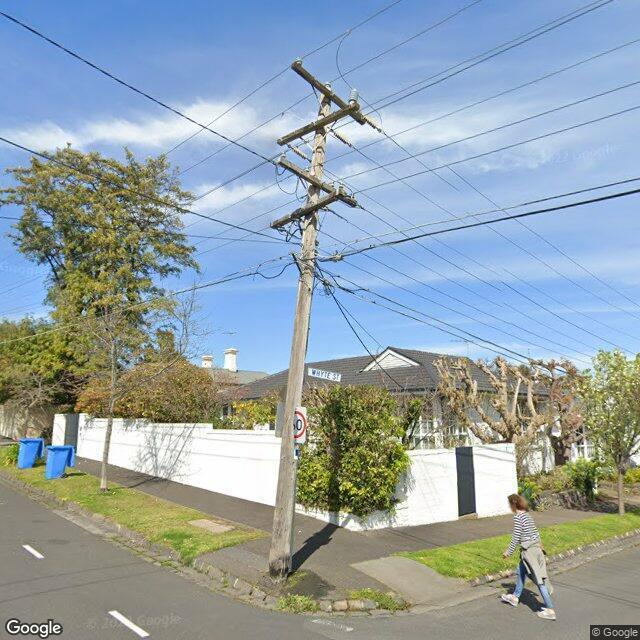HV-transmission: (292, 54, 382, 134)
crossarm: (276, 153, 365, 210), (292, 64, 366, 126), (270, 185, 348, 243), (277, 104, 361, 146)
timber-pole: (268, 89, 333, 580)
